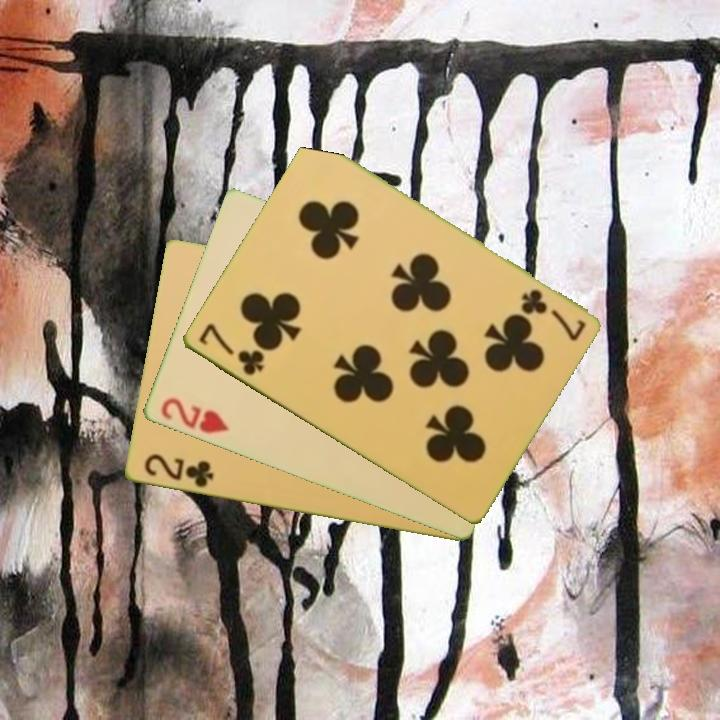2c: (140, 450, 216, 491)
2h: (157, 394, 231, 437)
7c: (194, 319, 267, 379), (516, 285, 588, 343)
